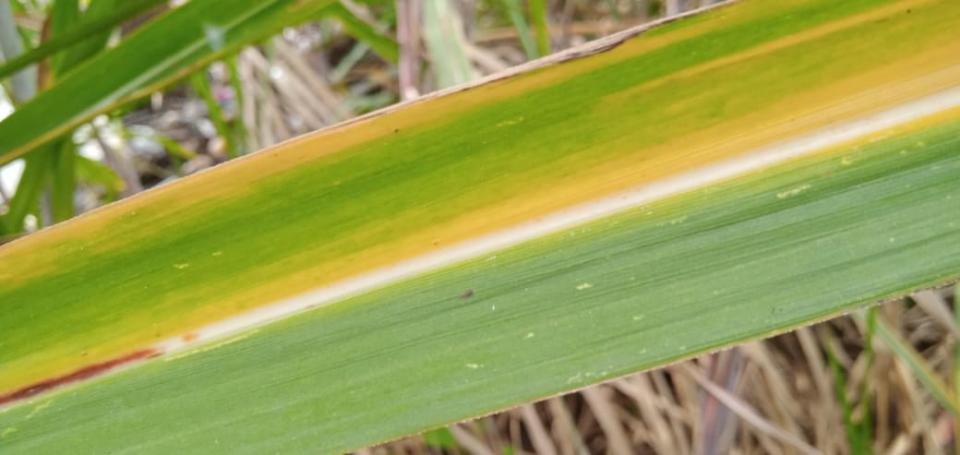RedRot: (0, 345, 165, 407)
Rust: (392, 126, 402, 135), (905, 7, 912, 16)
Yellow: (183, 39, 959, 331), (0, 0, 742, 259), (607, 0, 932, 97), (655, 106, 959, 202)
